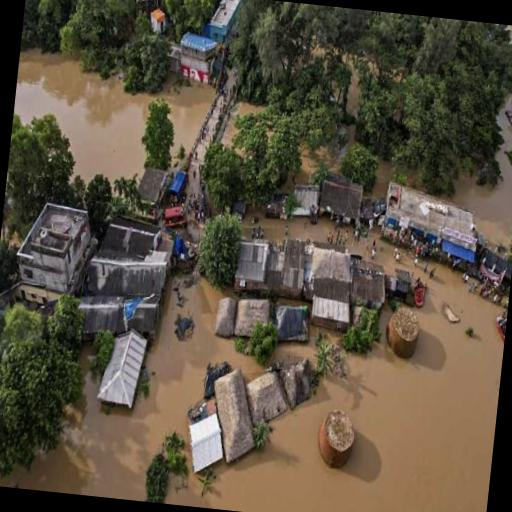flood: (165, 229, 504, 512), (0, 278, 262, 501), (14, 51, 155, 180), (449, 113, 512, 244), (156, 81, 214, 154), (288, 217, 333, 240), (258, 213, 286, 242), (236, 102, 259, 113), (225, 126, 233, 142)
house: (382, 180, 482, 268), (14, 200, 89, 292), (204, 367, 264, 464), (76, 286, 164, 344), (95, 324, 150, 408), (86, 242, 170, 296), (244, 366, 290, 428), (184, 410, 226, 476), (104, 216, 162, 258), (318, 174, 365, 220), (308, 247, 352, 296), (272, 238, 306, 299), (234, 237, 271, 292), (350, 258, 388, 306), (279, 357, 313, 410), (178, 32, 214, 82), (232, 296, 270, 339), (272, 304, 310, 346), (134, 164, 168, 207), (310, 296, 350, 332), (207, 0, 241, 40), (213, 294, 238, 339)
